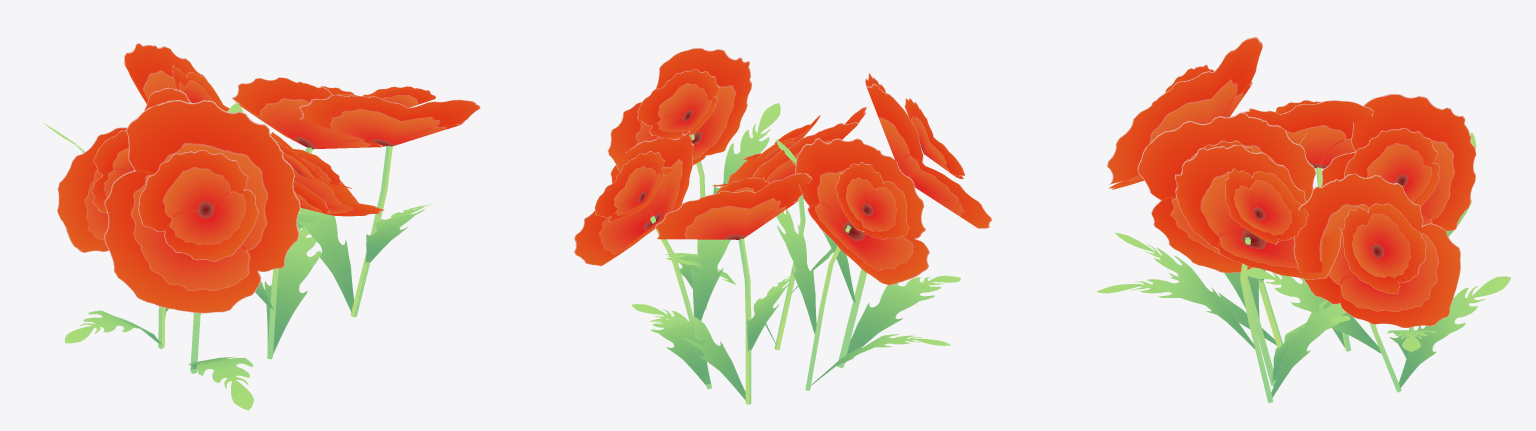
Rendered from SM_Coquelicot.fbx.
3 renders of one model, left to right at view 1: azimuth 30°, elevation 25°; view 2: azimuth 150°, elevation 25°; view 3: azimuth 270°, elevation 25°, orthographic. The views are drawn at different scales.
Parts seen in each view (by area): view 1: polySurface40; view 2: polySurface40; view 3: polySurface40.
Boxes of the visible parts, x1,y1,x2,y2 form: polySurface40: (43, 43, 480, 410); polySurface40: (574, 48, 991, 404); polySurface40: (1096, 37, 1511, 403).
Size of what is drawn, in the model's own units: 35.18 by 27.33 by 33.37.
